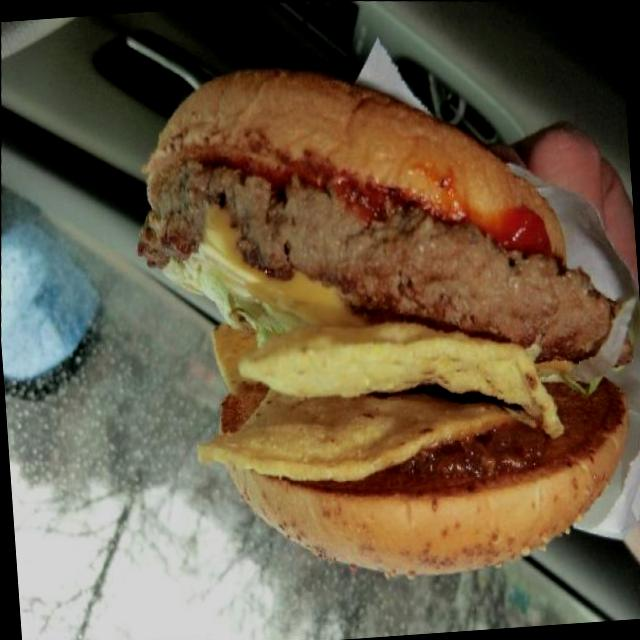Hamburger: (102, 51, 636, 604)
